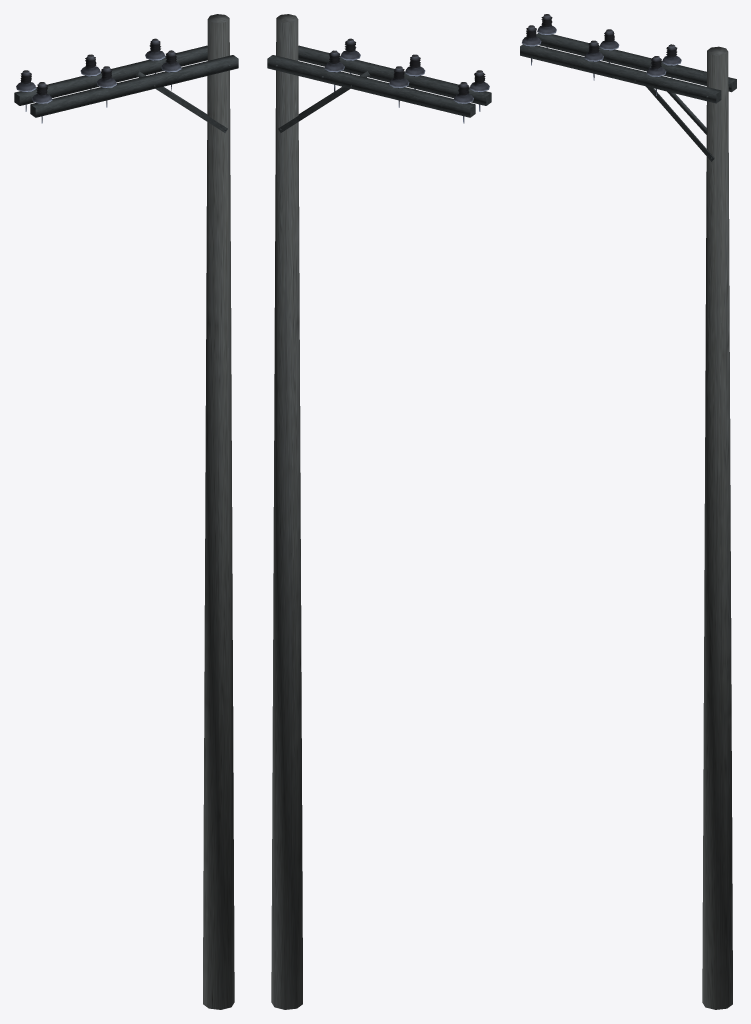
Rendered from pole_concrete_d_lod_1.glb.
3 renders of one model, left to right at view 1: azimuth 30°, elevation 25°; view 2: azimuth 150°, elevation 25°; view 3: azimuth 330°, elevation 25°, orthographic. The views are drawn at different scales.
Parts seen in each view (by area): view 1: pole_concrete_d_lod_1; view 2: pole_concrete_d_lod_1; view 3: pole_concrete_d_lod_1.
Boxes of the visible parts, box(x1,y1,x2,y2) form: pole_concrete_d_lod_1: box(14, 14, 238, 1009); pole_concrete_d_lod_1: box(267, 14, 491, 1009); pole_concrete_d_lod_1: box(520, 14, 736, 1009).
Bounding box in the file's own units: 2.24 × 10.2 × 0.5.
Materials: 2 (2 with a texture image).
